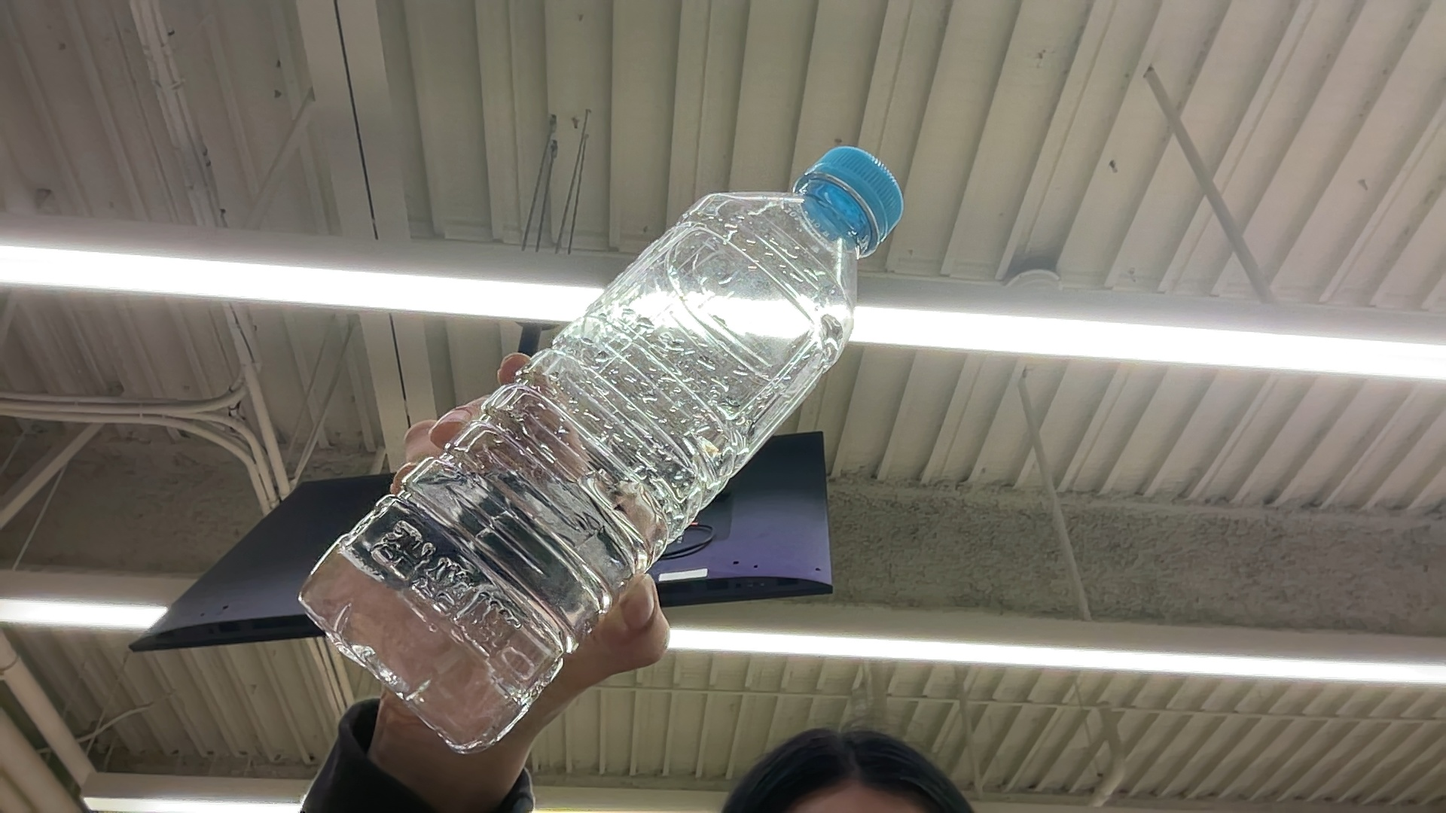Plastic: (4, 401, 279, 615)
